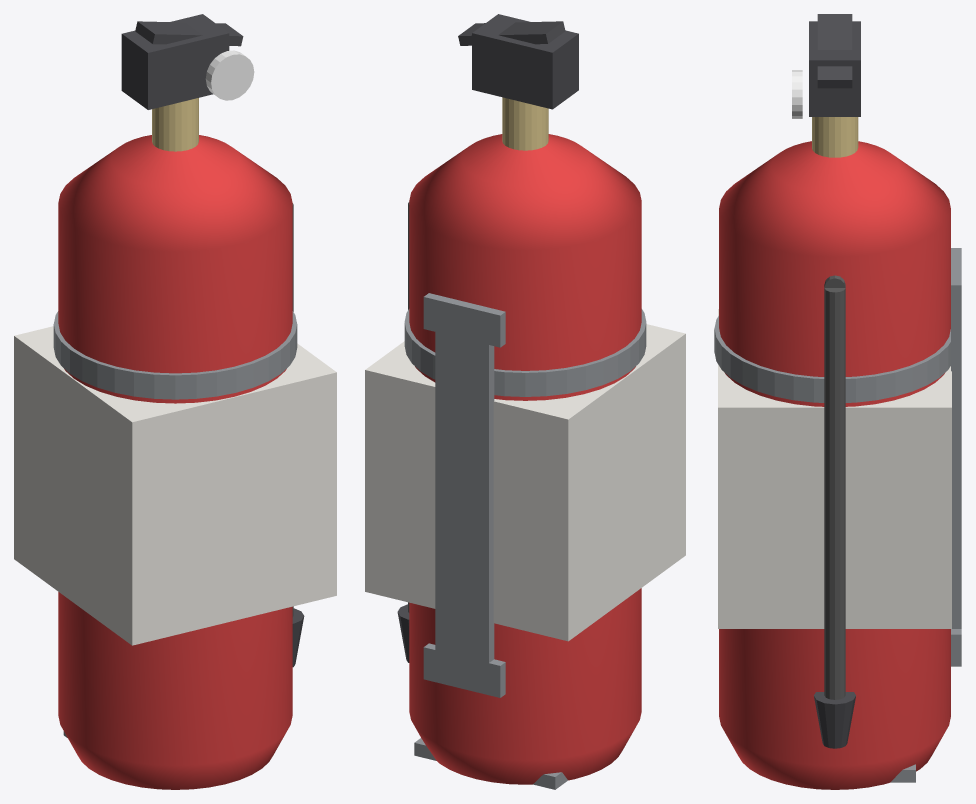
Rendered from FIR-SAF-ABC-SP-6KG.glb.
3 renders of one model, left to right at view 1: azimuth 30°, elevation 25°; view 2: azimuth 150°, elevation 25°; view 3: azimuth 270°, elevation 25°, orthographic.
Visible parts, largest first — view 1: FIR-SAF-ABC-SP-6KG; view 2: FIR-SAF-ABC-SP-6KG; view 3: FIR-SAF-ABC-SP-6KG.
Part boxes in pixels (x1,y1,x2,y2): FIR-SAF-ABC-SP-6KG: (14, 14, 336, 789); FIR-SAF-ABC-SP-6KG: (365, 14, 685, 789); FIR-SAF-ABC-SP-6KG: (714, 14, 961, 789).
Size of the model in its own units: 0.1498 by 0.4498 by 0.1398.
